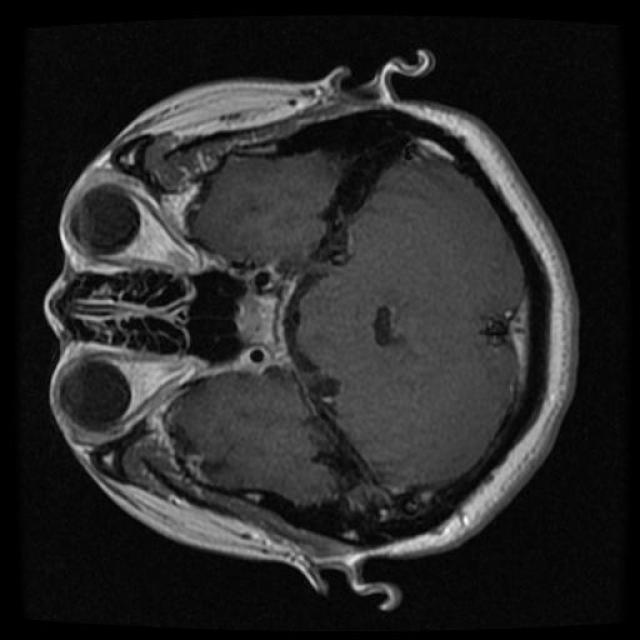Pituitary: (233, 265, 304, 373)
